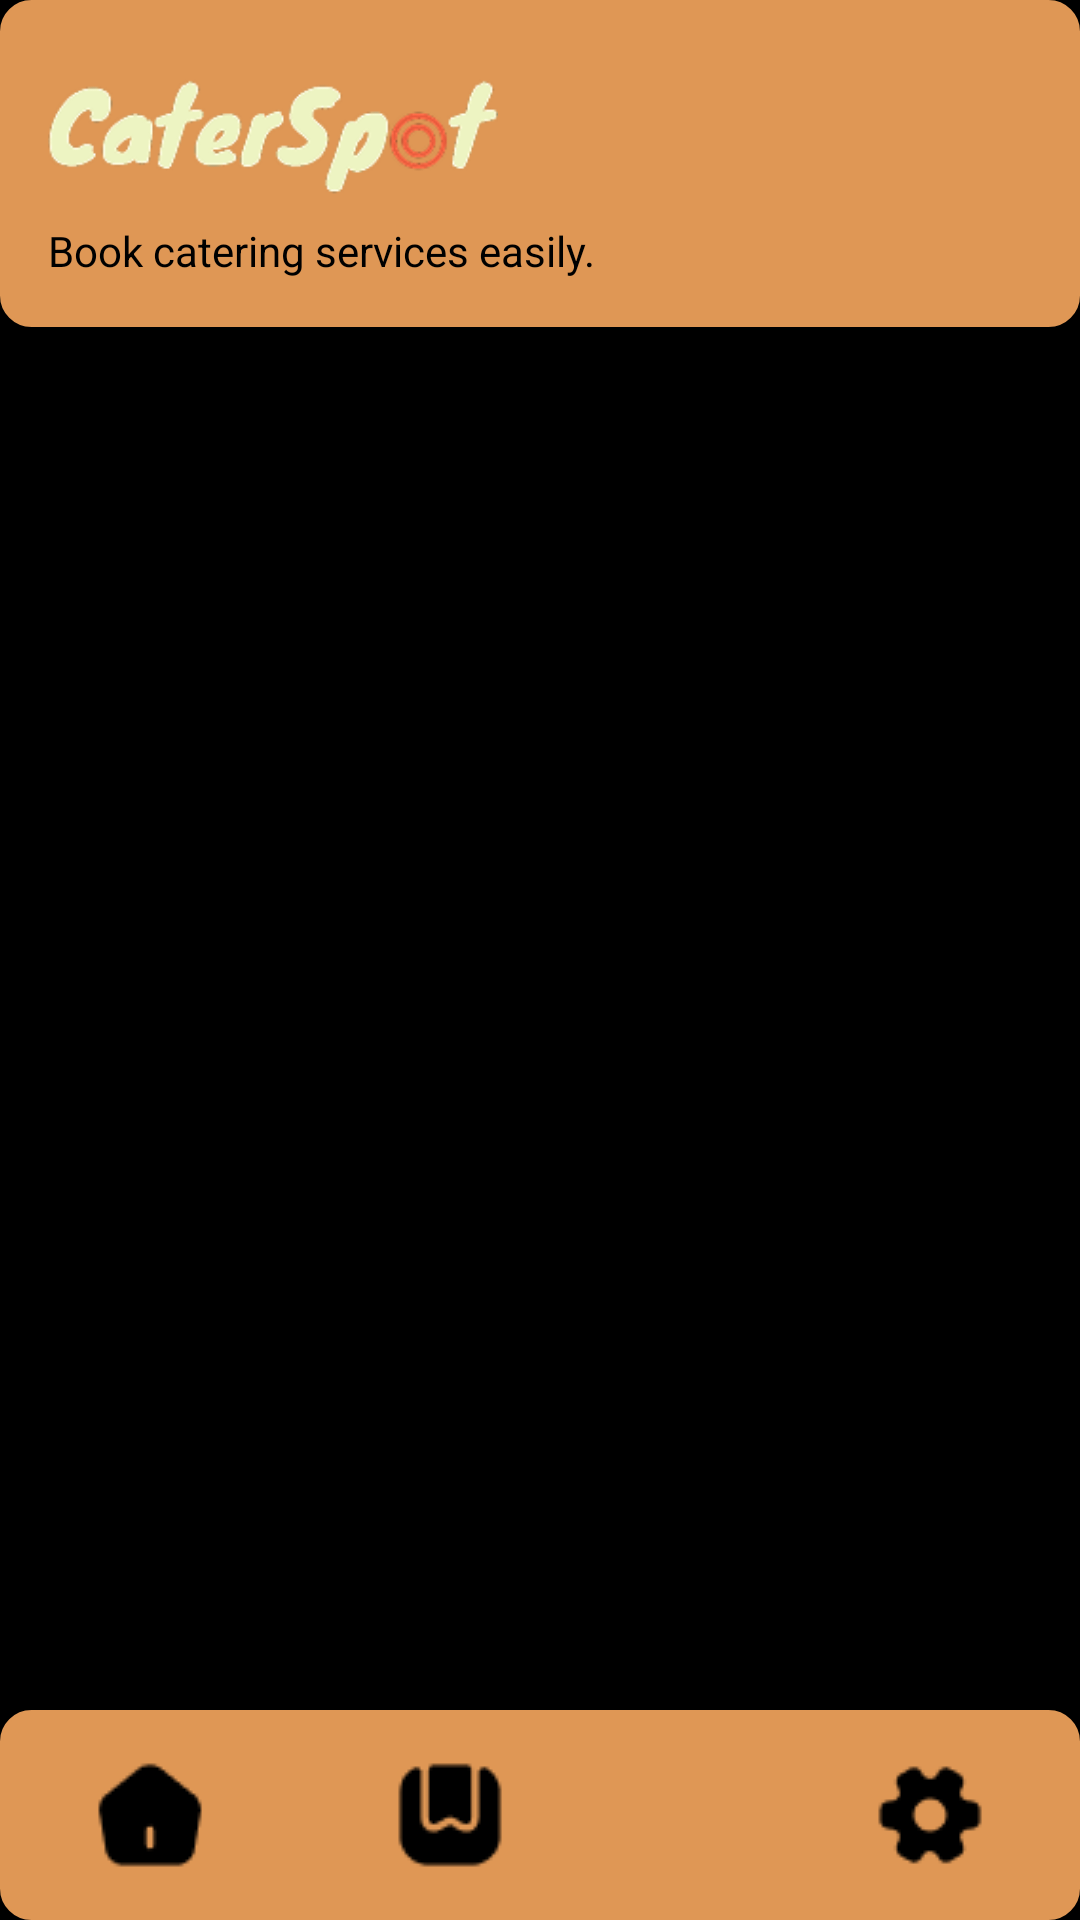

Where to tap for icons on this 1080w x 1920h app screen, as point (x, y):
book: point (450, 1815)
home: point (150, 1815)
settings: point (930, 1815)
